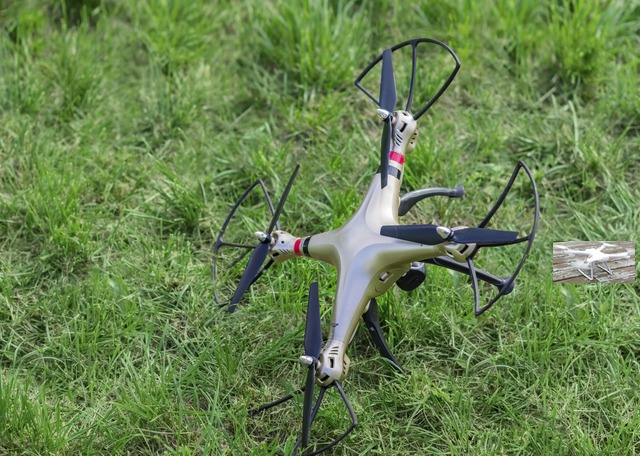drone: (211, 37, 540, 456), (553, 241, 635, 283)
